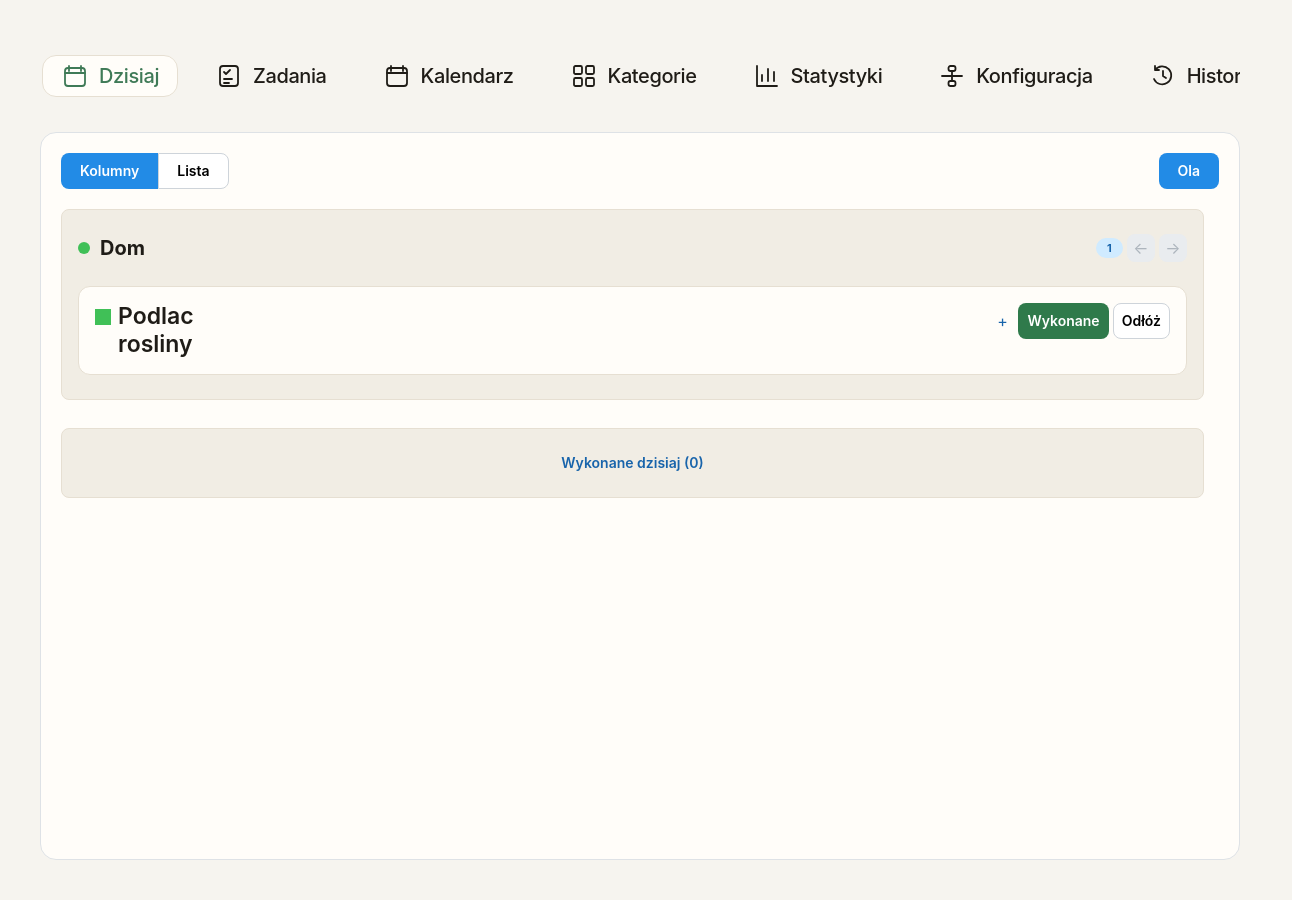
Scenario: App › deactivates a task from the tasks list without removing it
Step 1. Click the button "Zadania" → (271, 76), box [196, 55, 346, 97]
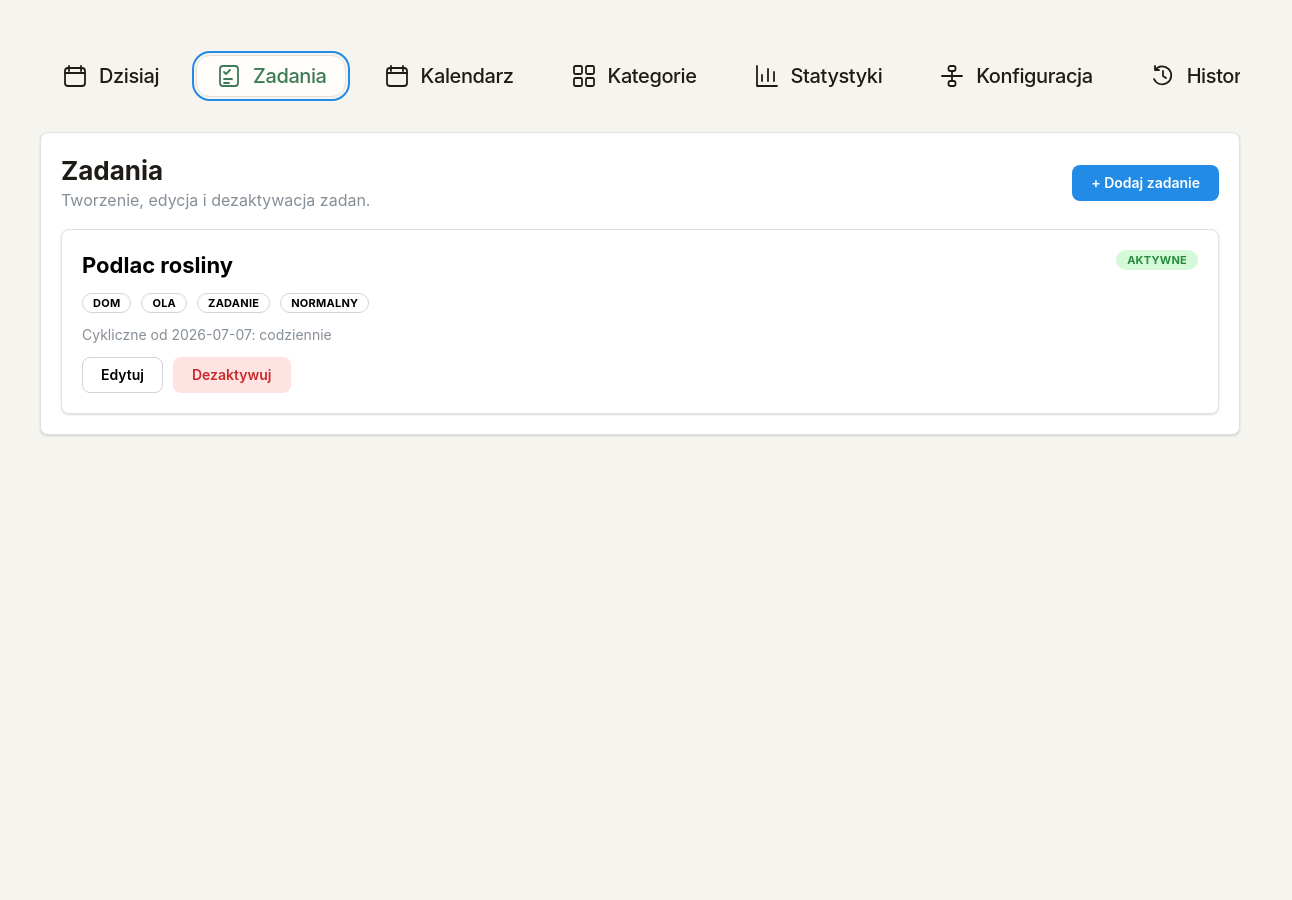
Step 2. Click the button "Dezaktywuj" → (232, 375), box [173, 357, 290, 393]
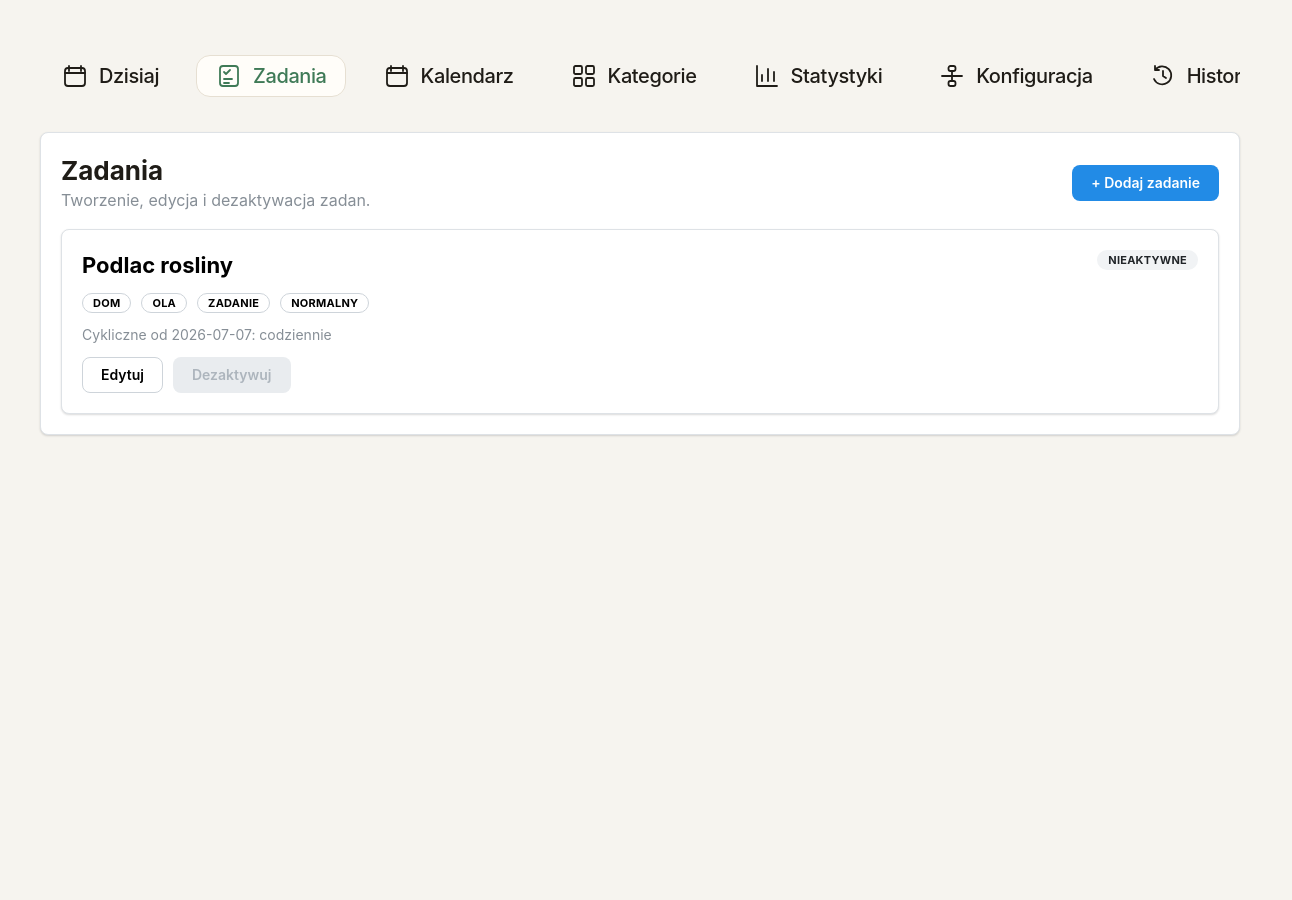
Check: the heading "Podlac rosliny" is shown, box [82, 250, 233, 281]
Check: the text "Nieaktywne" is shown, box [1108, 251, 1187, 269]
